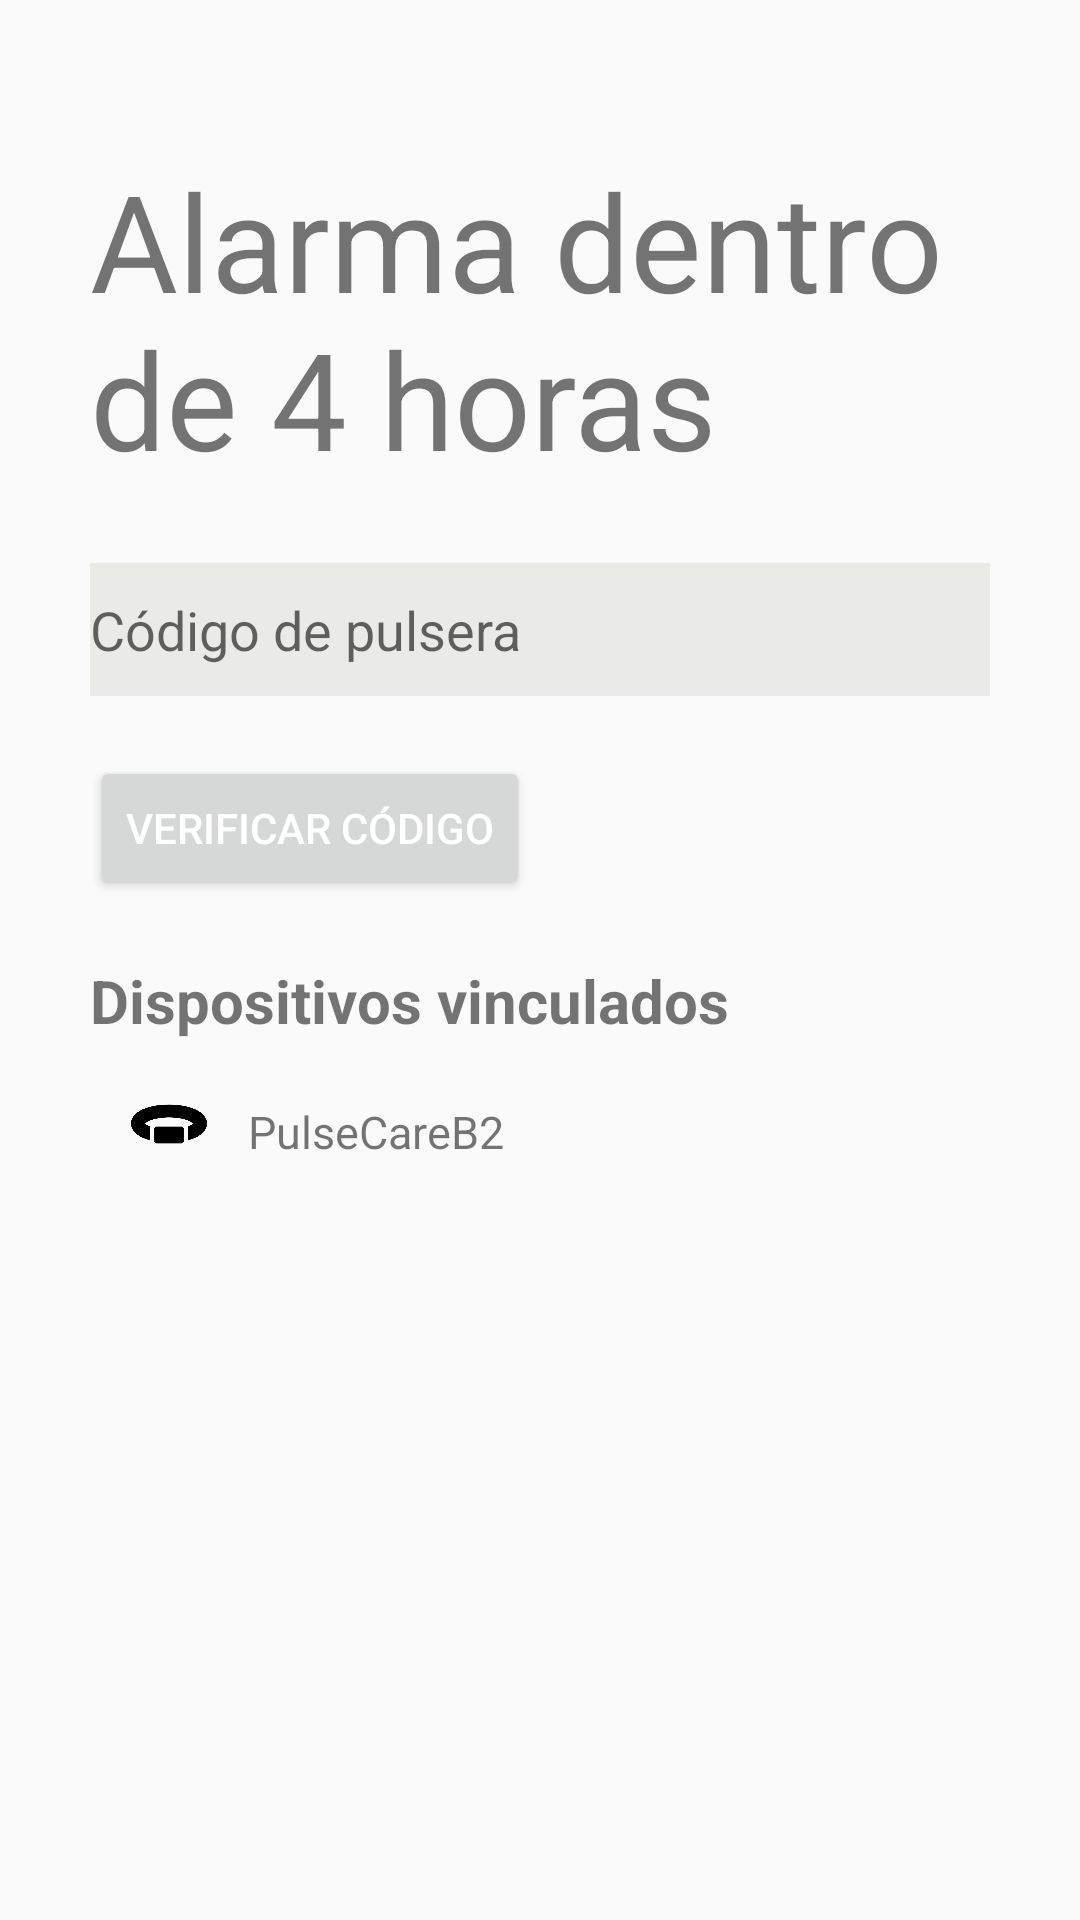

Screen size 1080 x 1920. Icon name, then its box in pixels as {"left": x1, "top": y1, "right": x2, "bottom": y2}:
brazalete: {"left": 131, "top": 1104, "right": 207, "bottom": 1144}
